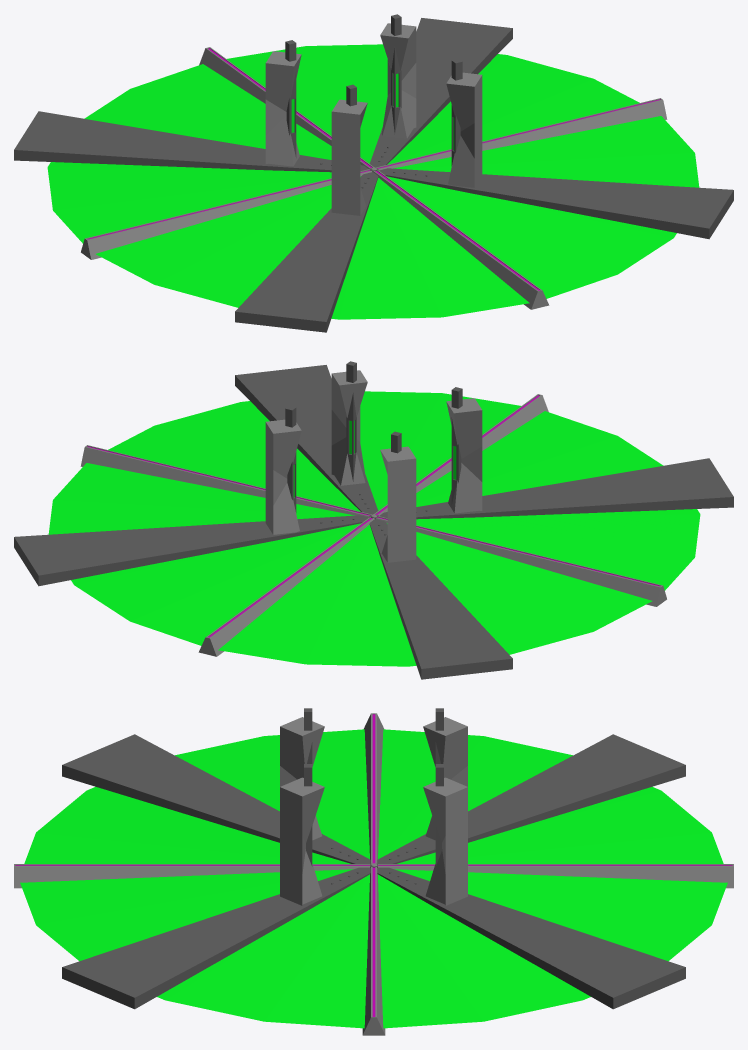
File: EnvironmentLVL1.fbx
3 views of the same model, one above another, from view 1: azimuth 30°, elevation 25°; view 2: azimuth 150°, elevation 25°; view 3: azimuth 270°, elevation 25° (orthographic). The views are drawn at different scales.
Visible parts, largest first — view 1: GroudPattern; view 2: GroudPattern; view 3: GroudPattern.
Part boxes in pixels (<box>): GroudPattern: <box>14,14,733,332</box>; GroudPattern: <box>14,361,733,679</box>; GroudPattern: <box>14,708,733,1035</box>.
Bounding box in the file's own units: 25143 × 25143 × 6642.
